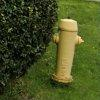a fire hydrant: (51, 16, 85, 84)
